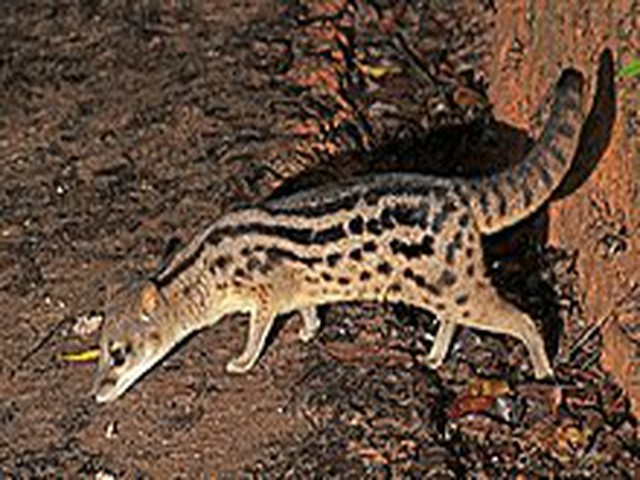civet: (87, 68, 591, 406)
